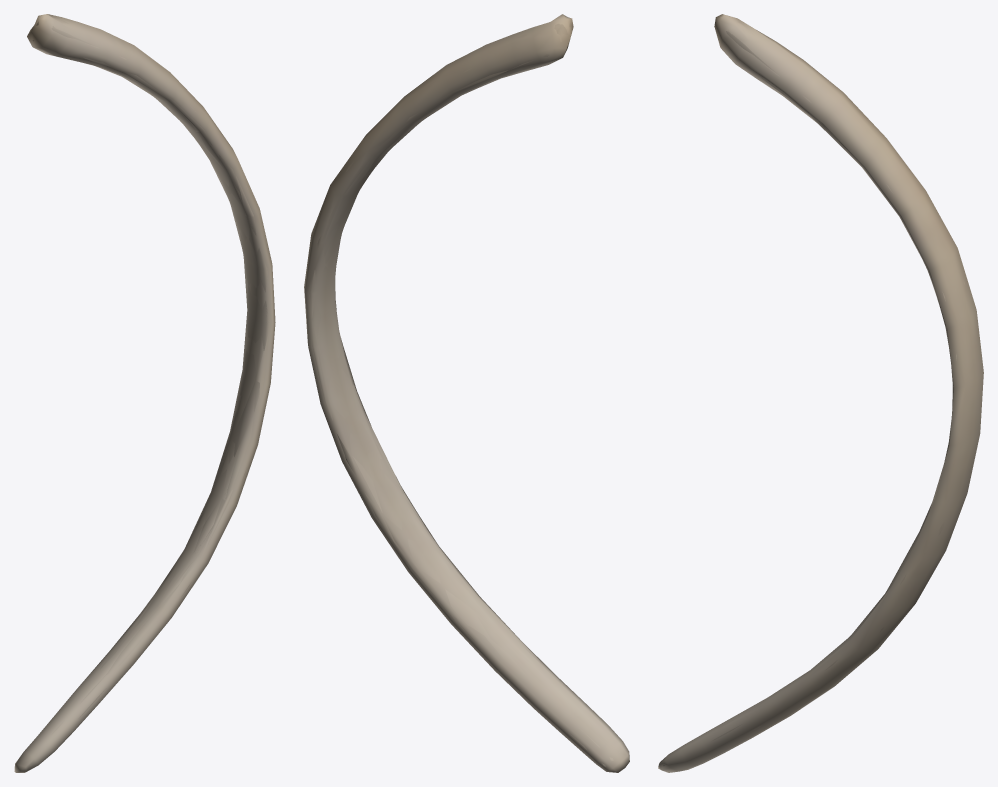
Rendered from Rib L01.fbx.
The picture shows the model from 3 angles, left to right: view 1: azimuth 30°, elevation 25°; view 2: azimuth 150°, elevation 25°; view 3: azimuth 330°, elevation 25°; orthographic projection. The views are drawn at different scales.
Visible parts, largest first — view 1: Rib L01, Rib L01 high, Rib L01 low; view 2: Rib L01, Rib L01 high, Rib L01 low; view 3: Rib L01, Rib L01 low, Rib L01 high.
Part boxes in pixels (<box>): Rib L01: <box>14,14,275,772</box>; Rib L01 high: <box>19,17,269,766</box>; Rib L01 low: <box>36,17,269,730</box>; Rib L01: <box>304,14,629,772</box>; Rib L01 high: <box>306,17,619,766</box>; Rib L01 low: <box>306,23,604,765</box>; Rib L01: <box>658,14,983,772</box>; Rib L01 low: <box>692,17,964,742</box>; Rib L01 high: <box>663,16,970,766</box>.
Bounding box in the file's own units: 3.88 × 9.79 × 1.29.
1 material, 1 textured.
